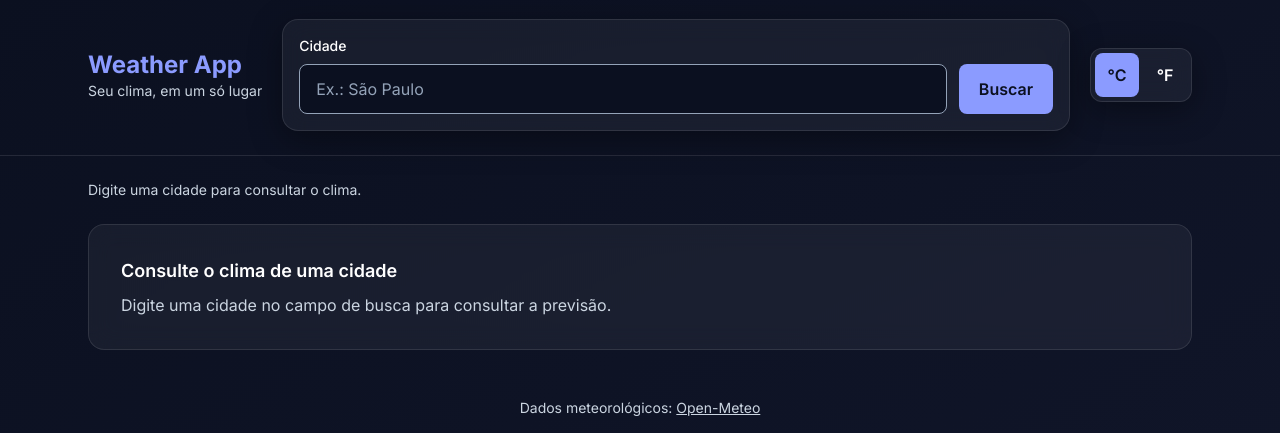
Test case: App integrado › permite nova busca antes de terminar geocoding e ignora resultado antigo
Type "Antiga" into the search field.
click(623, 89); type("Antiga")  # box top-left (299, 64), bottom-right (947, 114)
Then press Enter
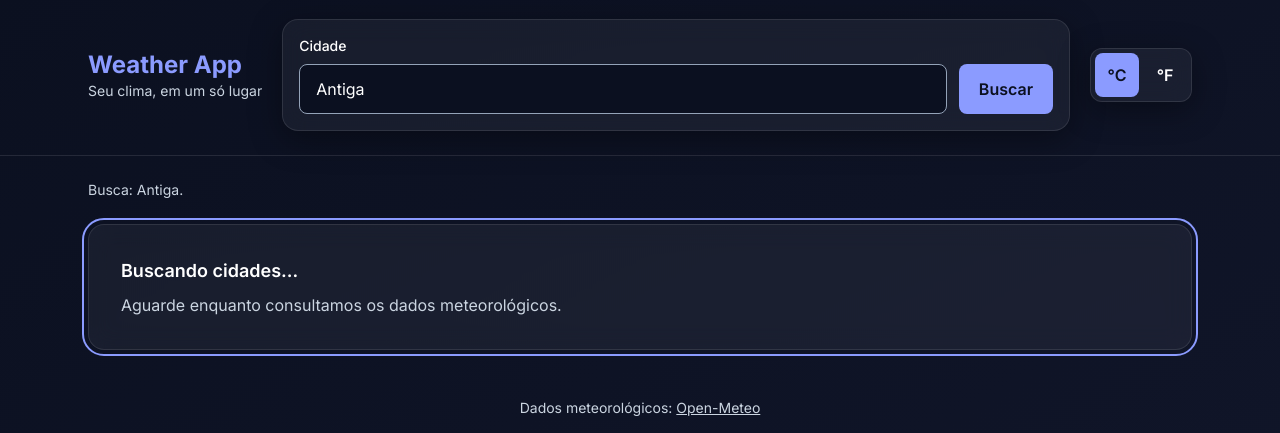
Replace the text in the search field with "Atual" at {"x": 623, "y": 89}, box top-left (299, 64), bottom-right (947, 114)
Then press Enter
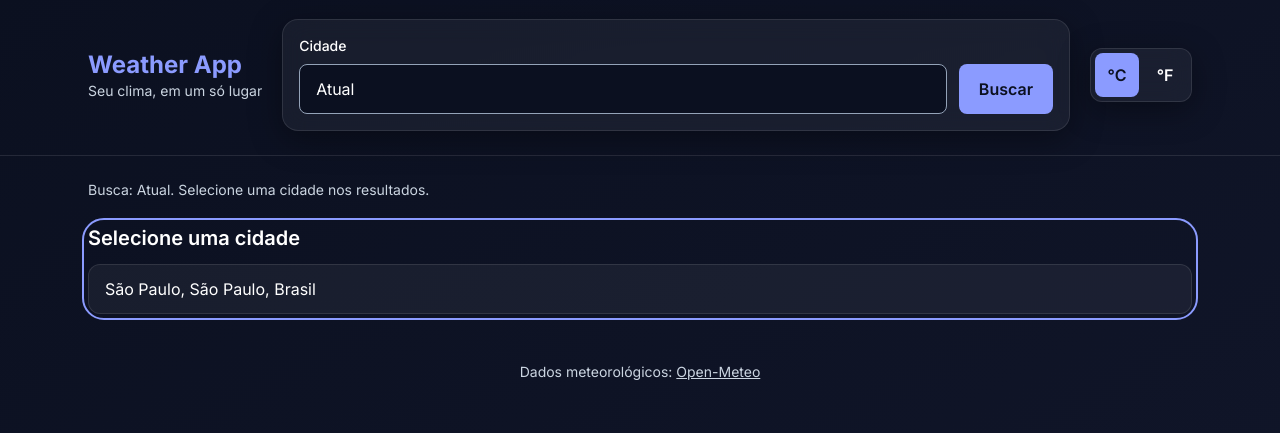
Expected: the button "São Paulo, São Paulo, Brasil" is shown, top-left (88, 264), bottom-right (1192, 314)
Expected: the text "Antiga" is gone
